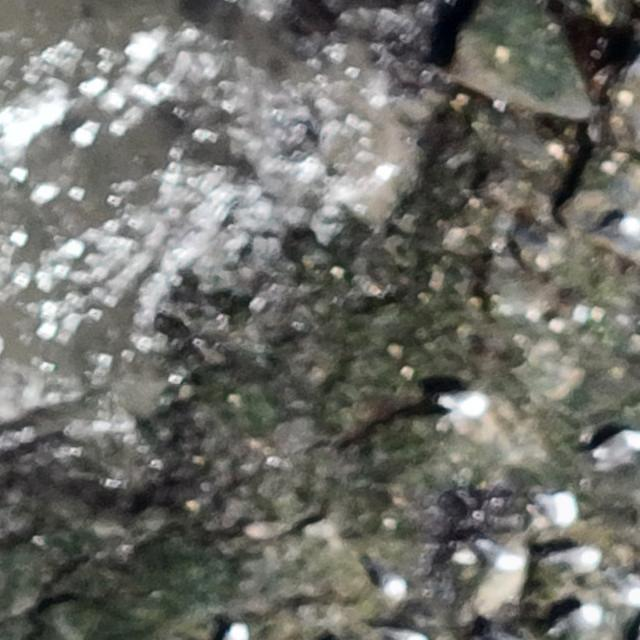umineko: (369, 556, 411, 598), (598, 428, 640, 462), (532, 494, 574, 526), (476, 540, 524, 567), (440, 392, 489, 417), (559, 602, 602, 630), (556, 546, 598, 574), (602, 216, 635, 238), (222, 623, 247, 640)
